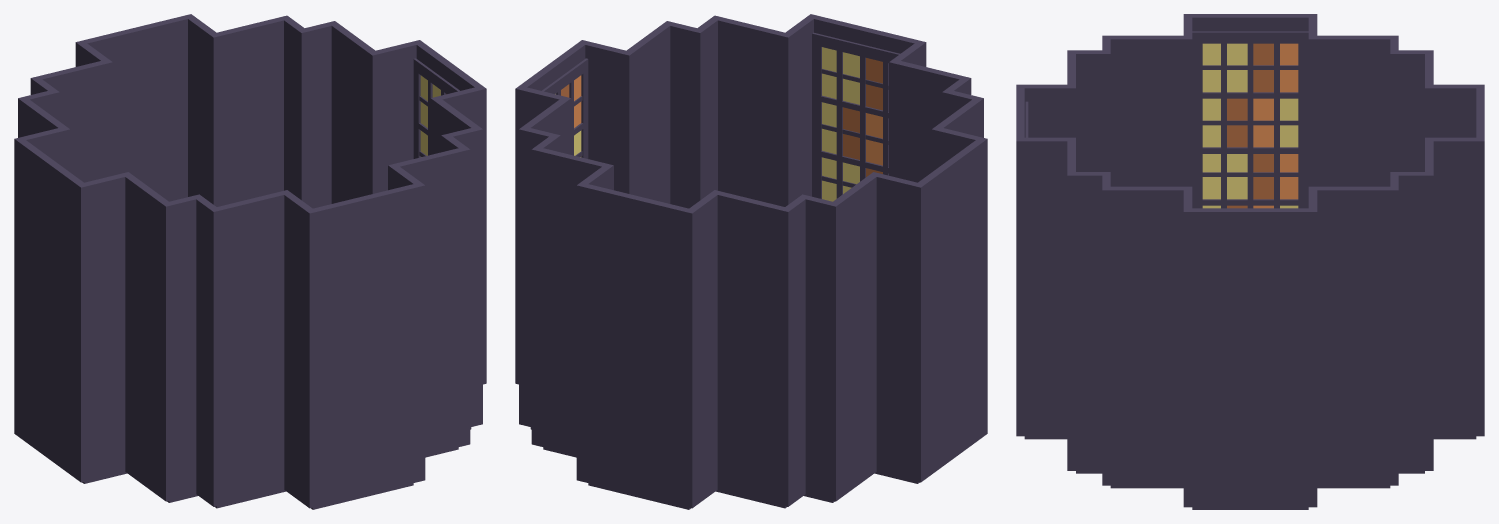
The model's file is office fbx.fbx.
The picture shows the model from 3 angles, left to right: view 1: azimuth 30°, elevation 25°; view 2: azimuth 150°, elevation 25°; view 3: azimuth 270°, elevation 25°; orthographic projection.
Parts seen in each view (by area): view 1: reception3:pCube1, pasted__pCube38; view 2: reception3:pCube1, pasted__pCube52, pasted__pCube38, pasted__pCube53; view 3: reception3:pCube1, pasted__pCube41, pasted__pCube40.
Part boxes in pixels (x1,y1,x2,y2): reception3:pCube1: [14, 14, 486, 509]; pasted__pCube38: [413, 58, 459, 158]; reception3:pCube1: [515, 14, 987, 509]; pasted__pCube52: [812, 32, 900, 183]; pasted__pCube38: [542, 58, 588, 158]; pasted__pCube53: [812, 153, 888, 201]; reception3:pCube1: [1016, 14, 1484, 509]; pasted__pCube41: [1192, 31, 1308, 172]; pasted__pCube40: [1192, 150, 1308, 208].
Bounding box in the file's own units: 114 × 81.3 × 114.
